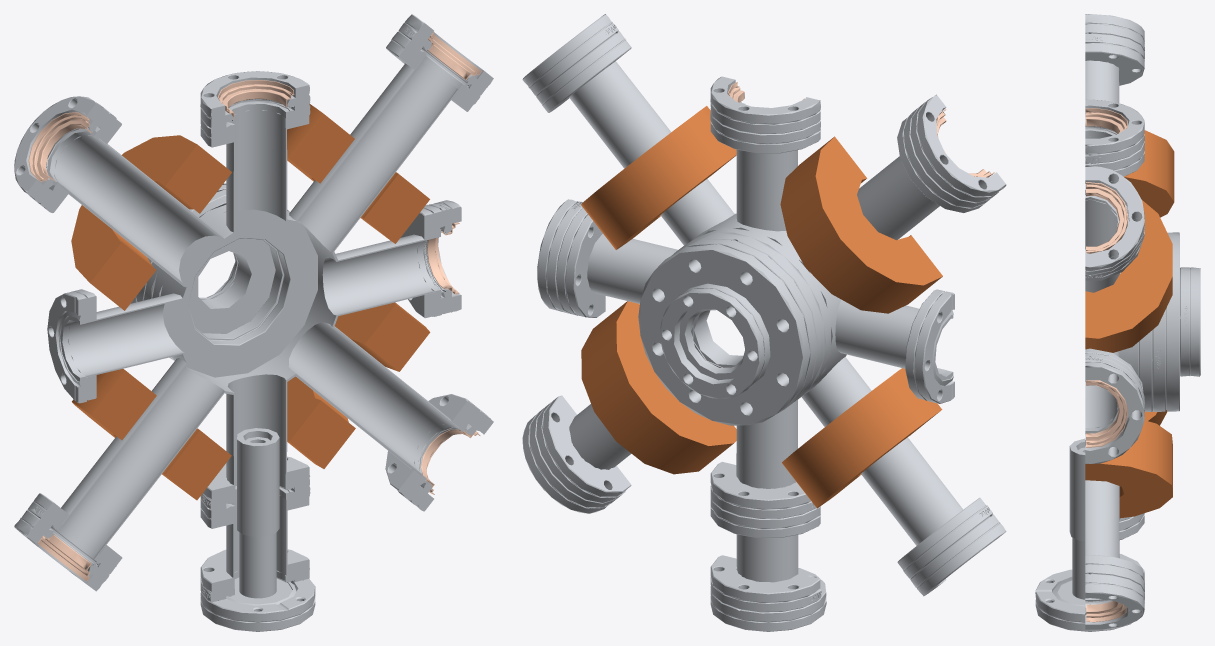
File: aion_source.gltf
The picture shows the model from 3 angles, left to right: view 1: azimuth 30°, elevation 25°; view 2: azimuth 150°, elevation 25°; view 3: azimuth 270°, elevation 25°; orthographic projection. The views are drawn at different scales.
Visible parts, largest first — view 1: Solid1:17, Solid1:14, Solid1:24, Solid1:26, Solid2:17, Solid1:9, Solid2:4, Solid2:7, Solid1:3, Solid1, Solid2:10, Solid1:16 (+4 smaller); view 2: Solid1:14, Solid1:17, Solid2:17, Solid2:7, Solid1:9, Solid1:24, Solid1:10, Solid2:10, Solid1:26, Solid2:18, Solid1:11, Solid1 (+2 smaller); view 3: Solid1:14, Solid1:9, Solid1:17, Solid2:17, Solid2:4, Solid2:7, Solid1, Solid1:10, Solid1:3, Solid1:26, Solid1:24, Solid2:14 (+2 smaller).
Part boxes in pixels (x1,y1,x2,y2): Solid1:17: [54, 60, 458, 553]; Solid1:14: [71, 104, 430, 500]; Solid1:24: [68, 110, 434, 496]; Solid1:26: [143, 196, 317, 377]; Solid2:17: [27, 31, 480, 574]; Solid1:9: [14, 14, 493, 591]; Solid2:4: [28, 32, 481, 581]; Solid2:7: [130, 183, 275, 333]; Solid1:3: [237, 428, 279, 536]; Solid1: [200, 577, 315, 631]; Solid2:10: [200, 485, 310, 602]; Solid1:16: [160, 211, 337, 394]; Solid1:14: [581, 106, 942, 508]; Solid1:17: [569, 61, 962, 545]; Solid2:17: [536, 31, 992, 578]; Solid2:7: [638, 239, 817, 425]; Solid1:9: [522, 14, 1006, 596]; Solid1:24: [587, 149, 946, 488]; Solid1:10: [660, 283, 770, 398]; Solid2:10: [710, 493, 821, 612]; Solid1:26: [678, 227, 830, 401]; Solid2:18: [710, 461, 816, 518]; Solid1:11: [736, 534, 798, 582]; Solid1: [710, 568, 826, 631]; Solid1:14: [1085, 130, 1174, 518]; Solid1:9: [1085, 14, 1144, 629]; Solid1:17: [1085, 60, 1119, 557]; Solid2:17: [1085, 33, 1144, 604]; Solid2:4: [1085, 108, 1128, 622]; Solid2:7: [1152, 232, 1179, 411]; Solid1: [1035, 569, 1144, 631]; Solid1:10: [1180, 267, 1200, 376]; Solid1:3: [1069, 438, 1085, 541]; Solid1:26: [1125, 330, 1152, 411]; Solid1:24: [1085, 136, 1119, 427]; Solid2:14: [1085, 126, 1144, 176].
Bounding box in the file's own units: 32.28 × 36.1 × 10.41.
